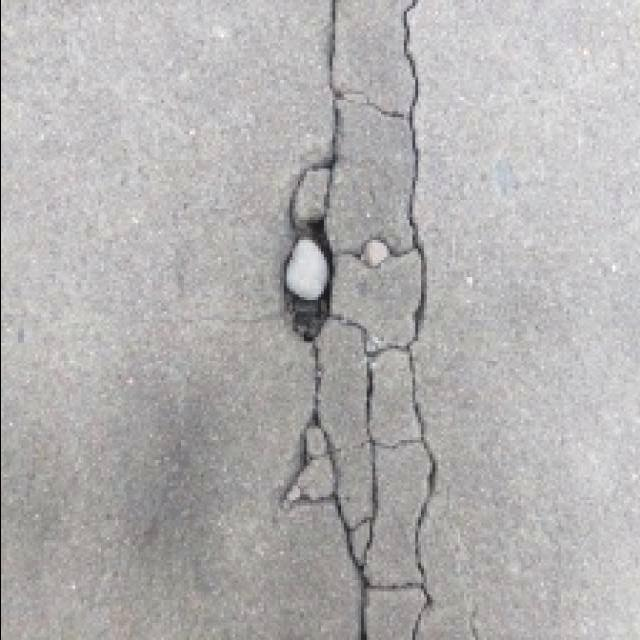SurfaceCrack: (288, 0, 462, 640)
